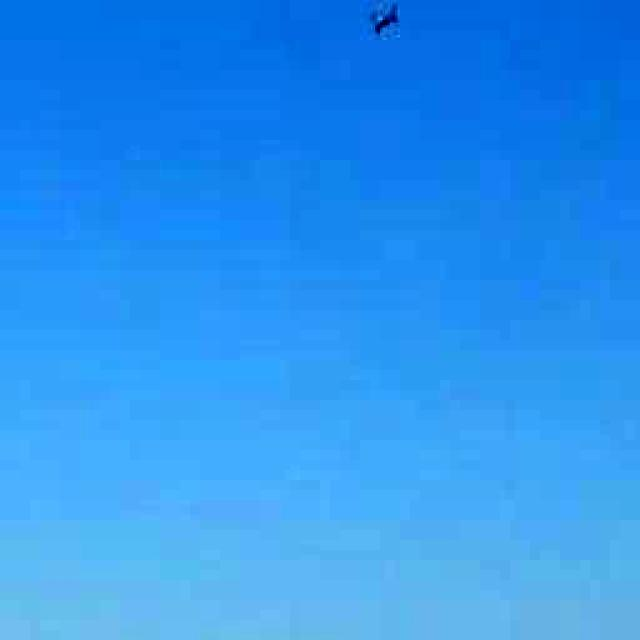bird: (345, 0, 422, 48)
